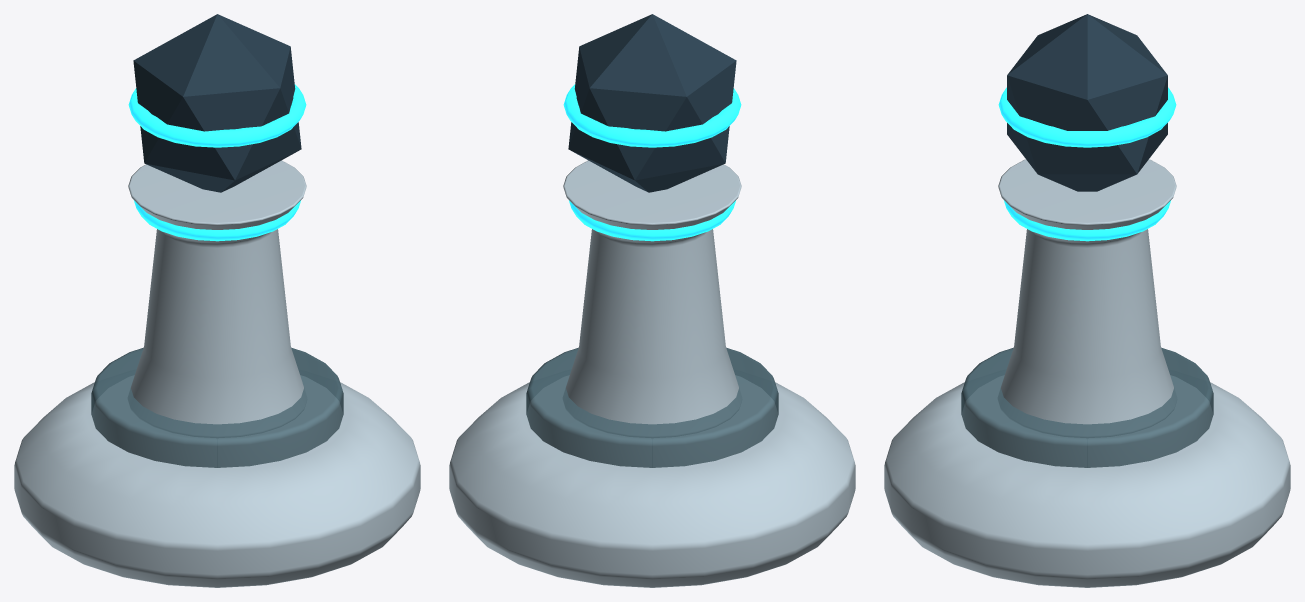
The picture shows the model from 3 angles, left to right: view 1: azimuth 30°, elevation 25°; view 2: azimuth 150°, elevation 25°; view 3: azimuth 270°, elevation 25°; orthographic projection.
Visible parts, largest first — view 1: SciFi_p_w; view 2: SciFi_p_w; view 3: SciFi_p_w.
Boxes of the visible parts, box(x1,y1,x2,y2) form: SciFi_p_w: box(14, 14, 420, 587); SciFi_p_w: box(449, 14, 855, 587); SciFi_p_w: box(884, 14, 1290, 587).
Size of the model in its own units: 0.58 by 0.78 by 0.58.
